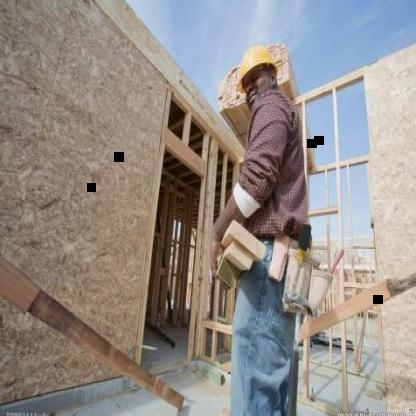helmet: (233, 45, 280, 95)
